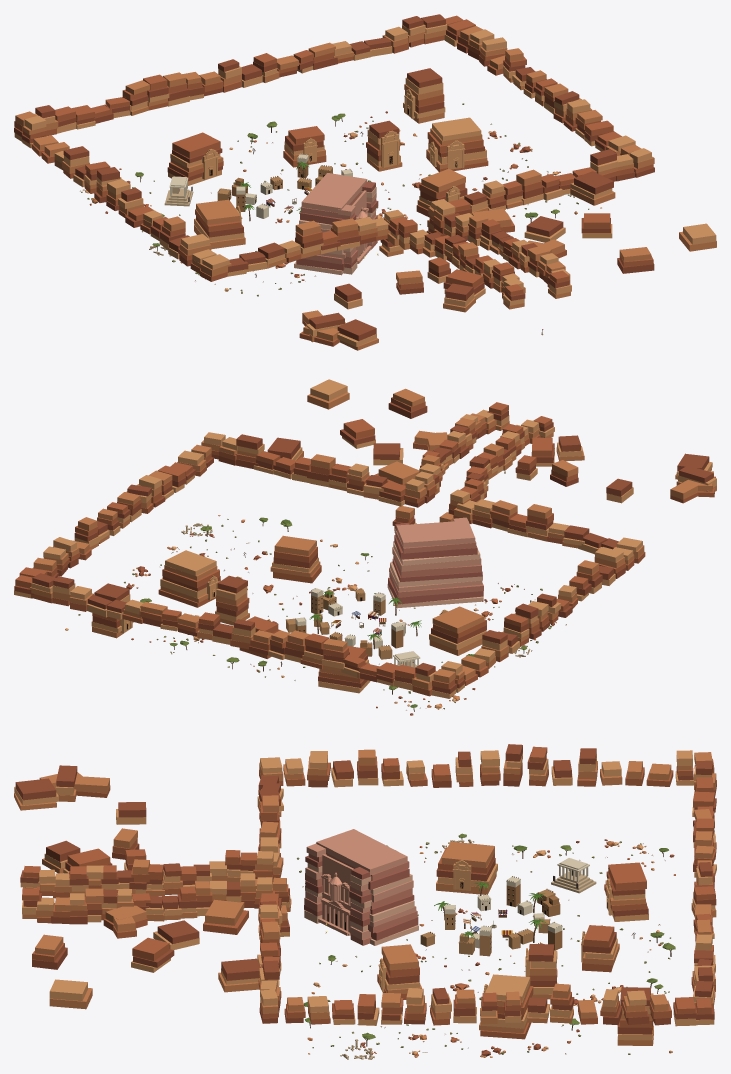
The model's file is town.glb.
3 renders of one model, top to bottom at view 1: azimuth 30°, elevation 25°; view 2: azimuth 150°, elevation 25°; view 3: azimuth 270°, elevation 25°, orthographic. The views are drawn at different scales.
Parts seen in each view (by area): view 1: Town; view 2: Town; view 3: Town.
Boxes of the visible parts, x1,y1,x2,y2 form: Town: (14, 14, 716, 350); Town: (14, 379, 716, 715); Town: (14, 744, 716, 1059).
Size of the model in its own units: 269 by 42.7 by 317.
